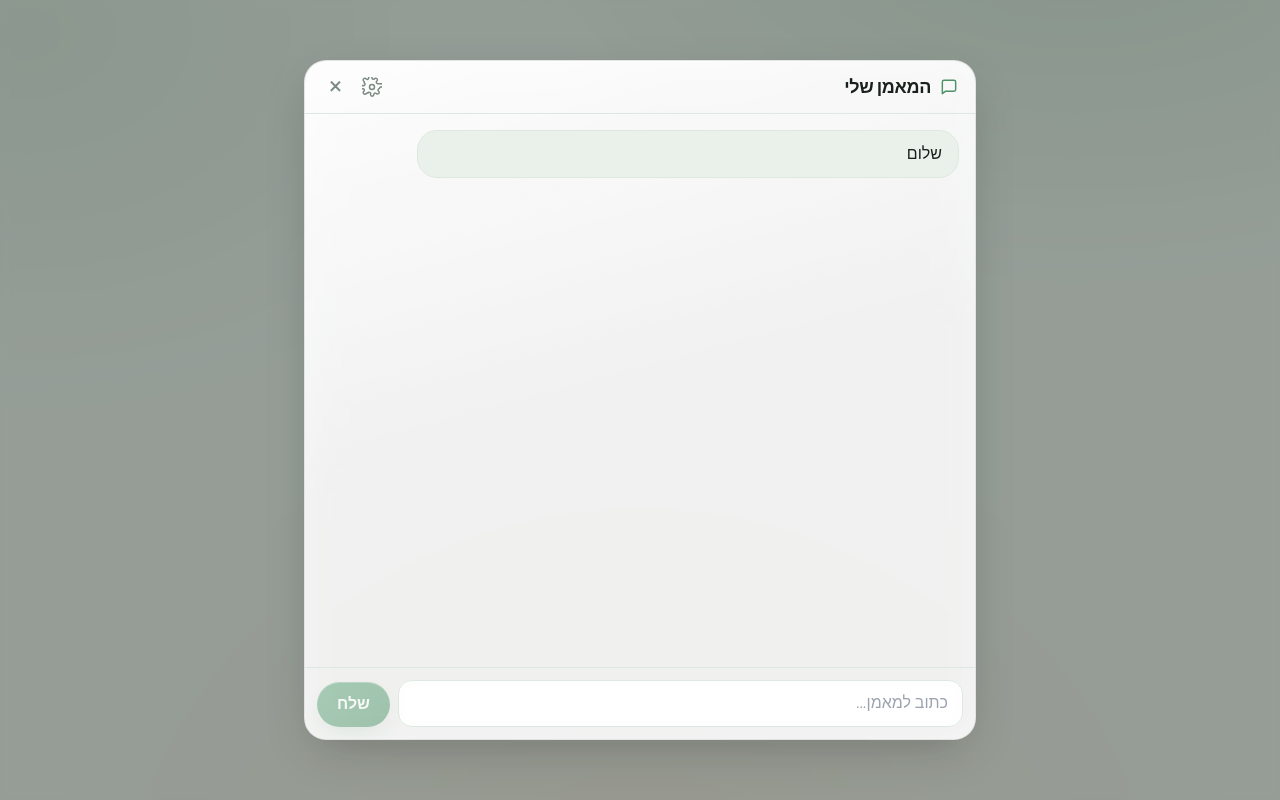
it: sending a message › surfaces a failure and lets the user try again
The image size is (1280, 800).
Type "שאלה" into the text box with placeholder "כתוב למאמן…" at [680, 704], box [398,680,963,727]
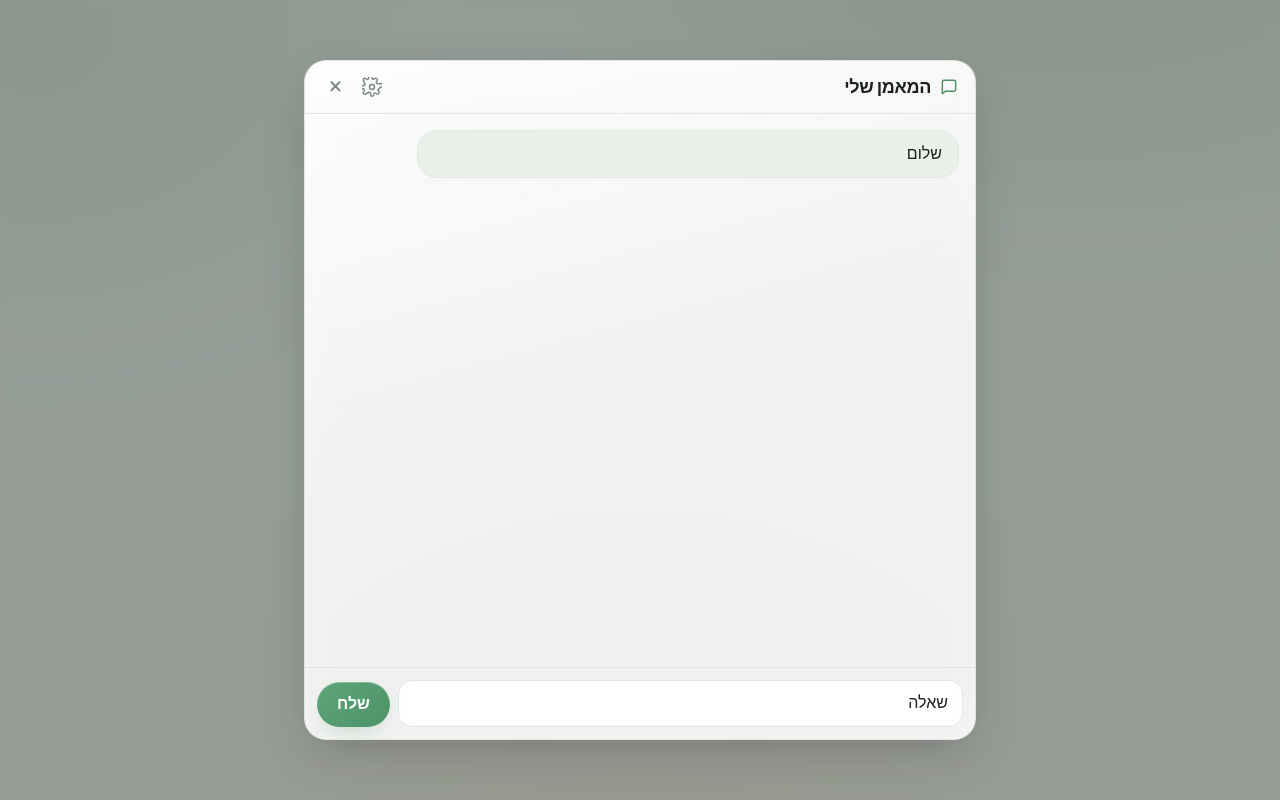
Click the button "שלח" at [353, 705], box [317,682,390,727]
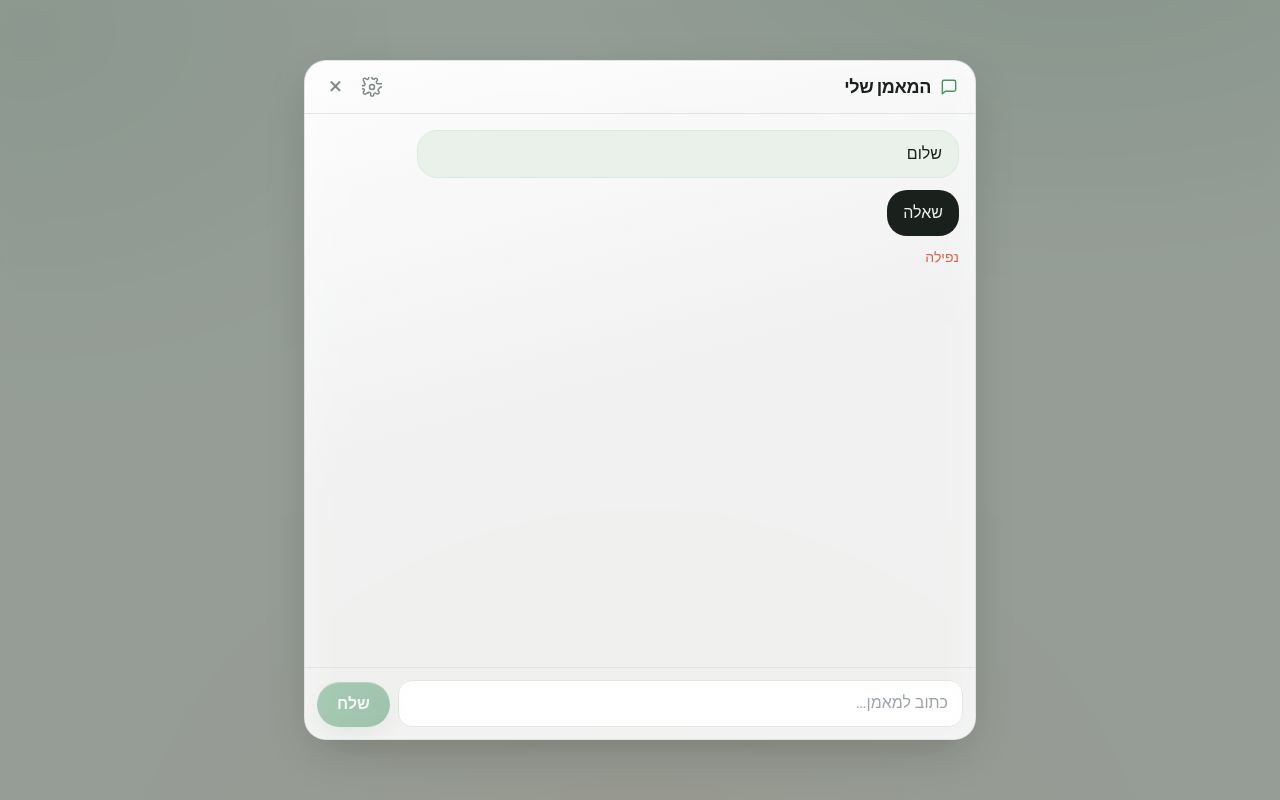
Expected: the text "נפילה" is shown, [925,247,959,268]
Type "שוב בבקשה" into the text box with placeholder "כתוב למאמן…" at [680, 704], box [398,680,963,727]
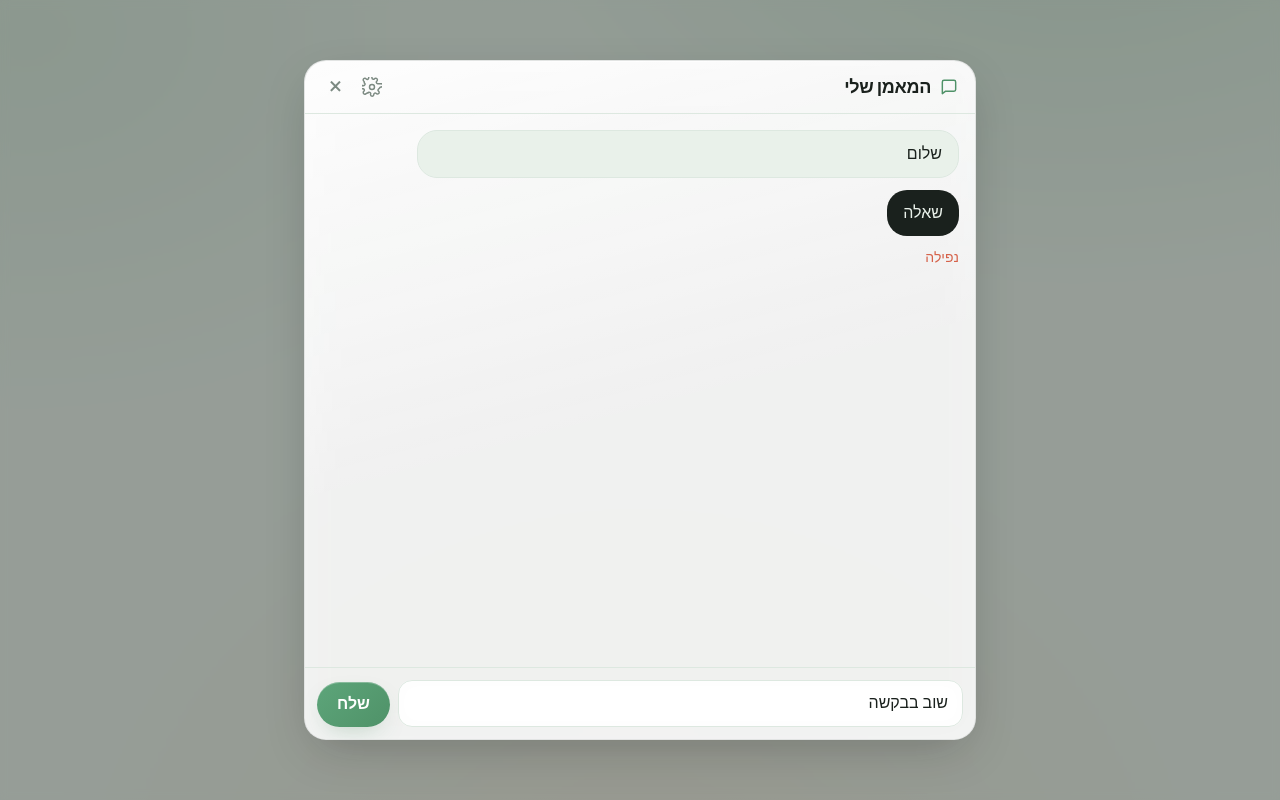
Click the button "שלח" at [353, 705], box [317,682,390,727]
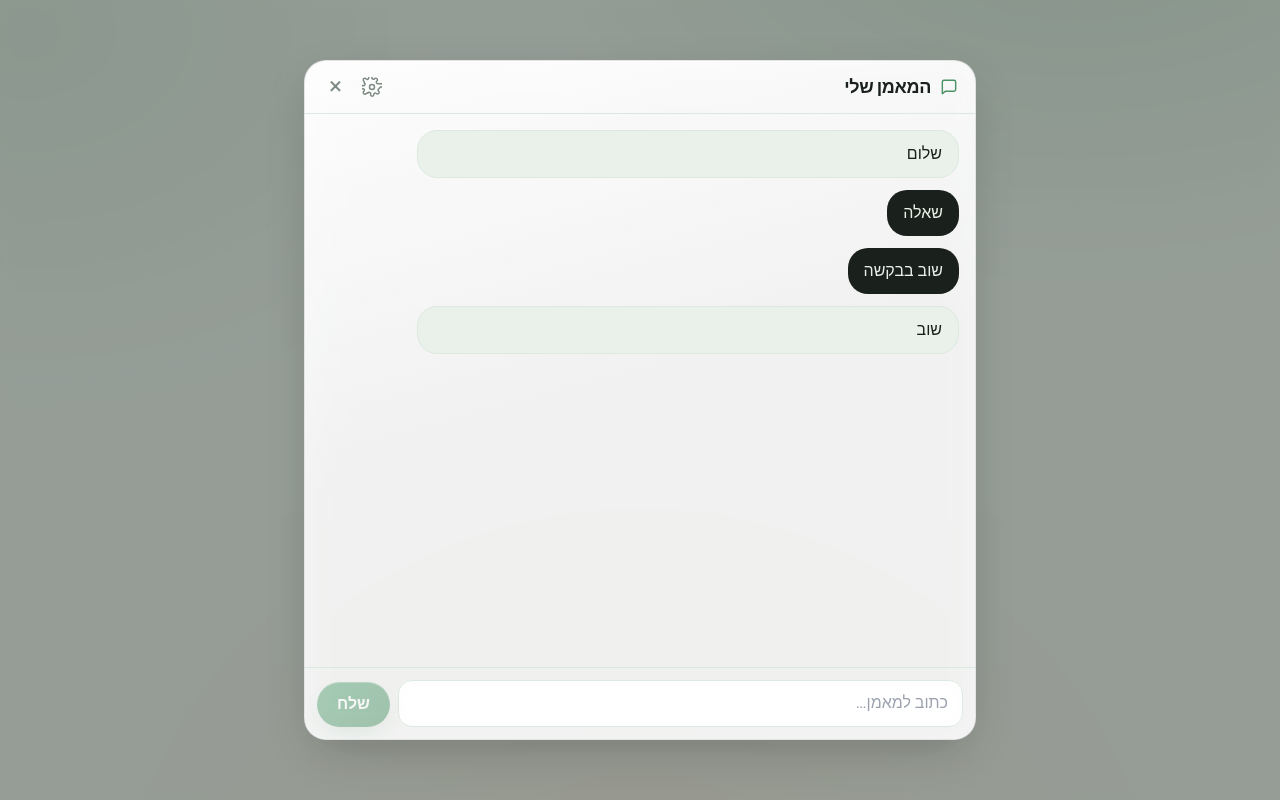
Expected: the text "שוב" is shown, [417,306,959,354]
